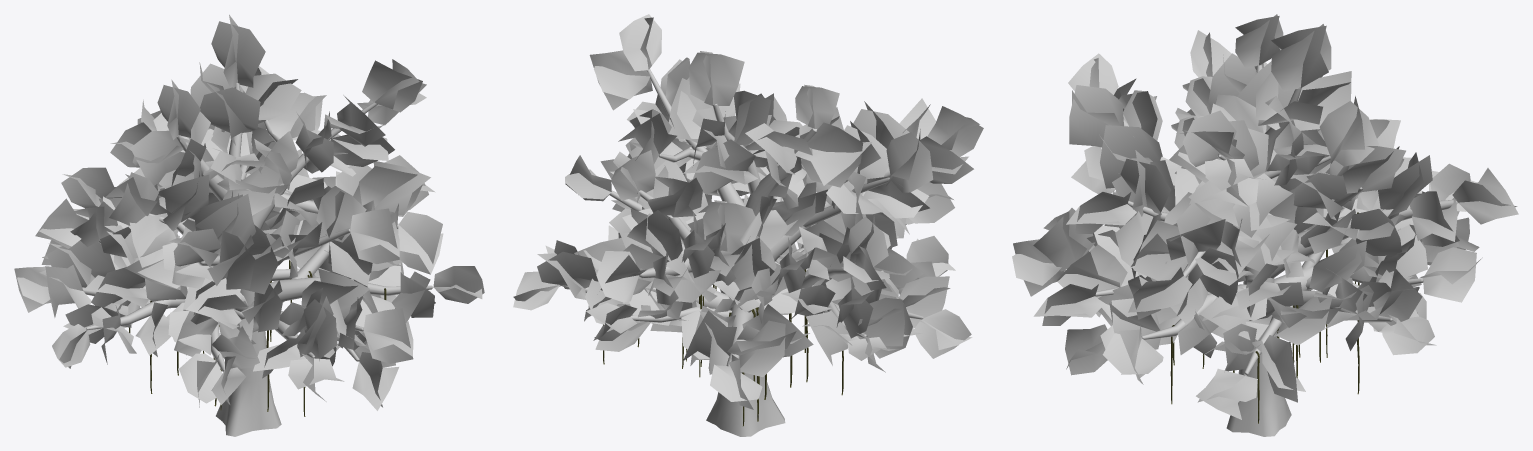
File: arvoreCipo_09Jun.fbx
3 renders of one model, left to right at view 1: azimuth 30°, elevation 25°; view 2: azimuth 150°, elevation 25°; view 3: azimuth 270°, elevation 25°, orthographic. The views are drawn at different scales.
Visible parts, largest first — view 1: pCylinder135; view 2: pCylinder135; view 3: pCylinder135.
Boxes of the visible parts, x1,y1,x2,y2 form: pCylinder135: (14,14,484,436); pCylinder135: (513,14,983,436); pCylinder135: (1012,14,1518,436).
Bounding box in the file's own units: 1623 × 1520 × 1737.
